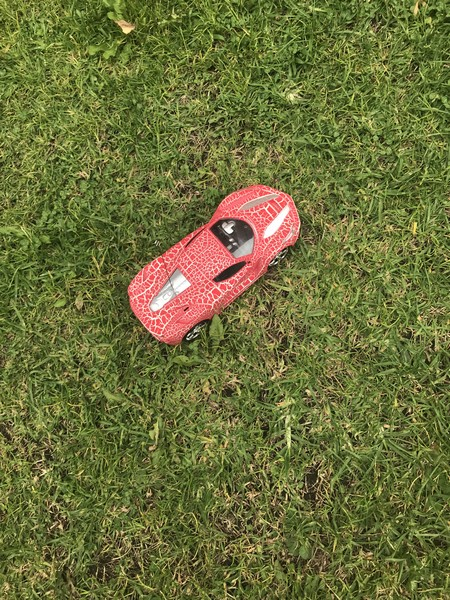RC: (126, 183, 304, 346)
